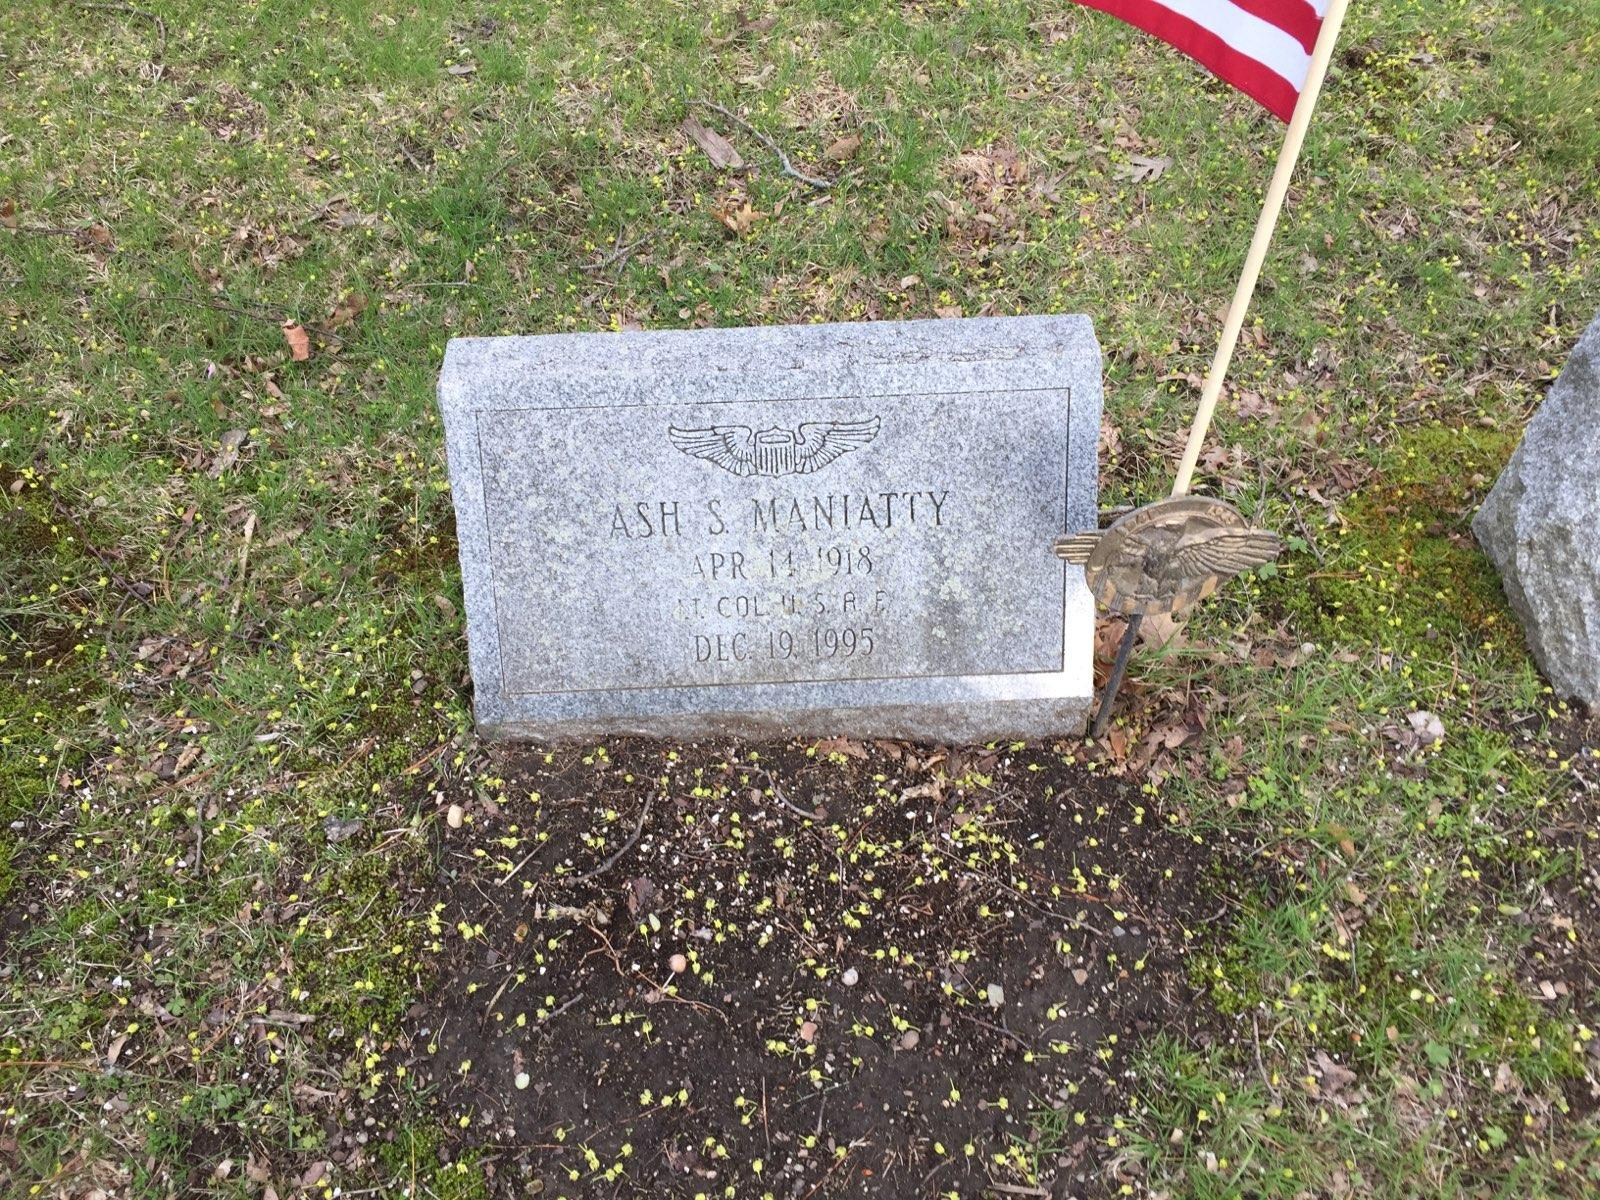slant: (437, 323, 1095, 745)
